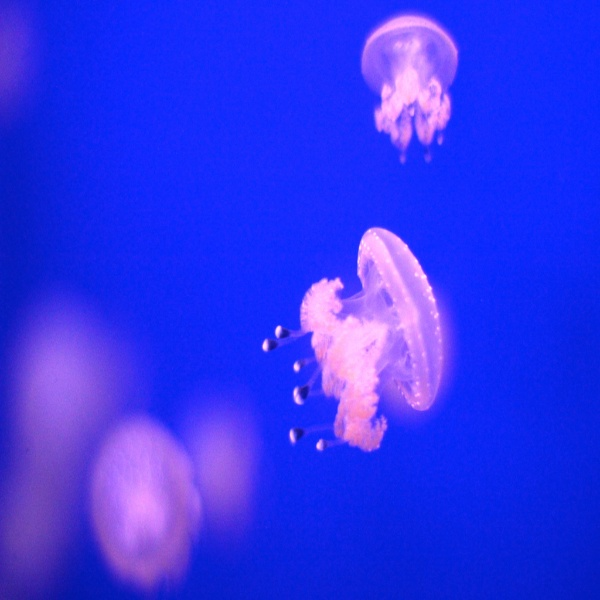Jellyfish: (270, 217, 446, 474), (358, 13, 459, 165)
